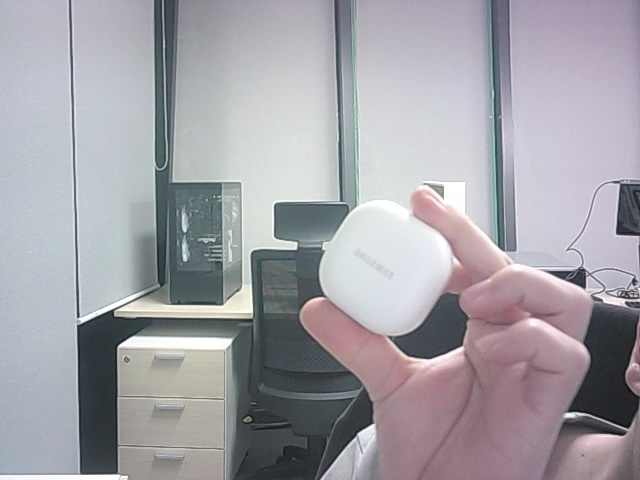case: (319, 200, 452, 336)
